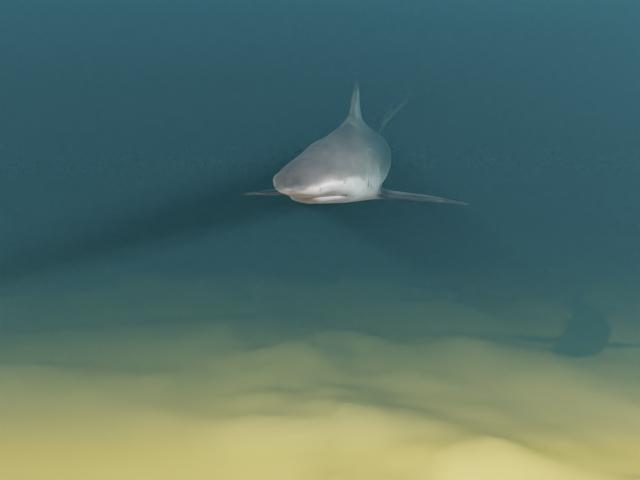Carribean Shark.001: (243, 79, 469, 205)
